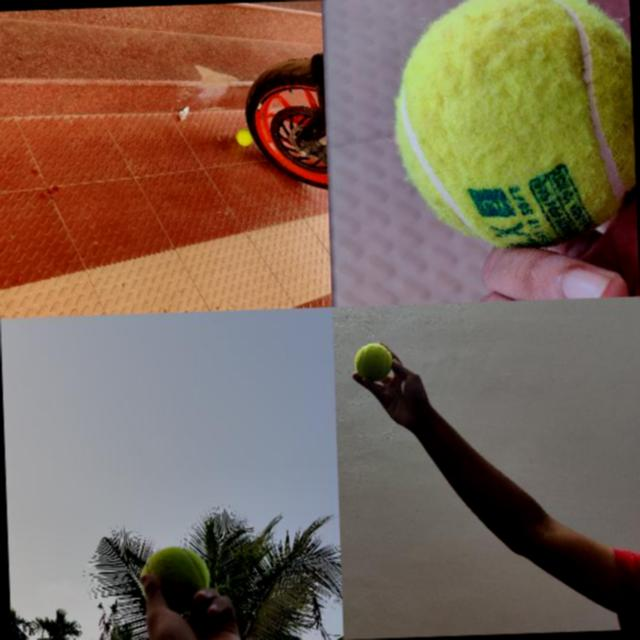tennis-ball: (388, 0, 636, 254), (138, 546, 210, 612), (353, 342, 392, 381), (235, 128, 248, 146)
